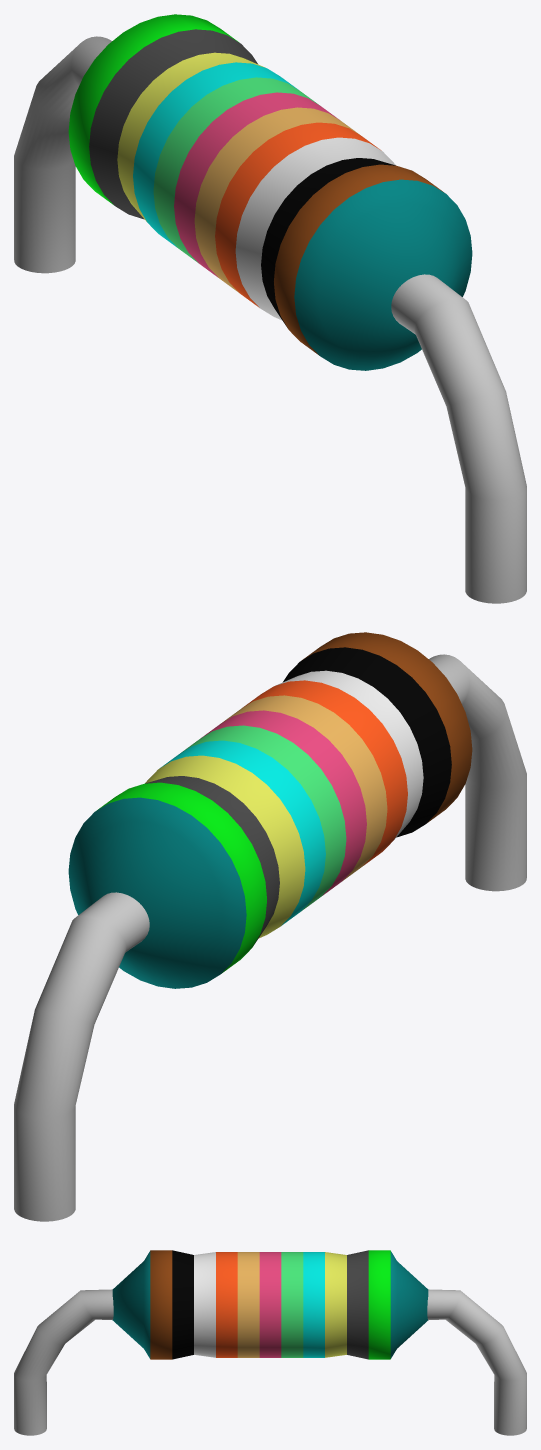
Rendered from ResistorSingle.fbx.
3 renders of one model, top to bottom at view 1: azimuth 30°, elevation 25°; view 2: azimuth 150°, elevation 25°; view 3: azimuth 270°, elevation 25°, orthographic. The views are drawn at different scales.
Parts seen in each view (by area): view 1: Cylinder; view 2: Cylinder; view 3: Cylinder.
Boxes of the visible parts, <box> form: Cylinder: <box>14,14,526,603</box>; Cylinder: <box>14,632,526,1221</box>; Cylinder: <box>14,1250,526,1435</box>.
Size of the model in its own units: 20 by 34.98 by 93.79.
